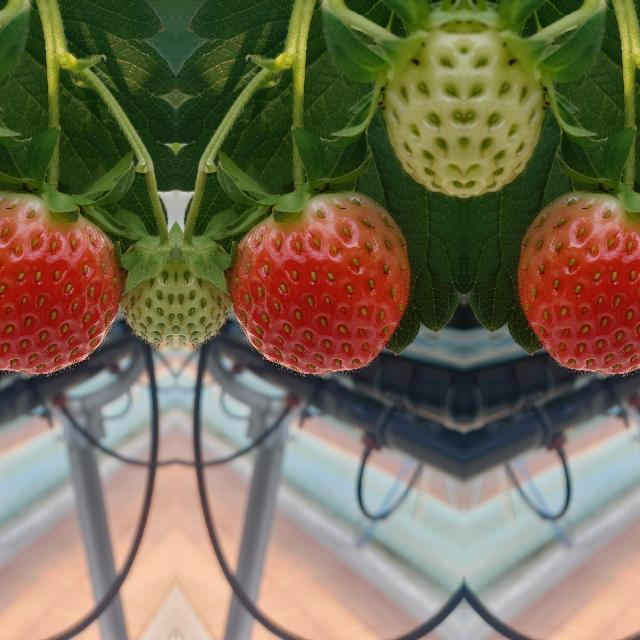Health_100: (228, 190, 408, 372), (0, 189, 122, 372), (518, 189, 640, 372)
Health_25: (369, 7, 463, 195), (463, 7, 557, 195), (178, 220, 222, 354), (128, 220, 172, 354)
